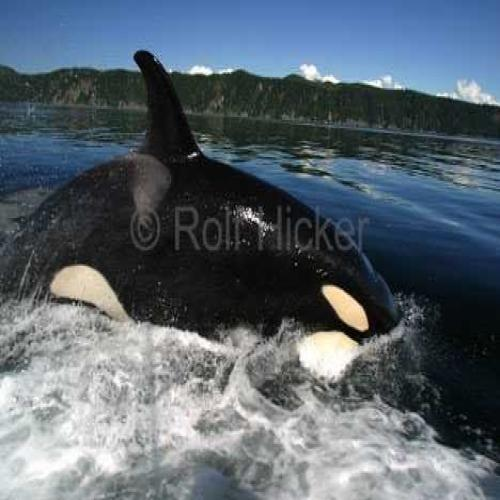killer_whale-endangered: (1, 51, 422, 392)
